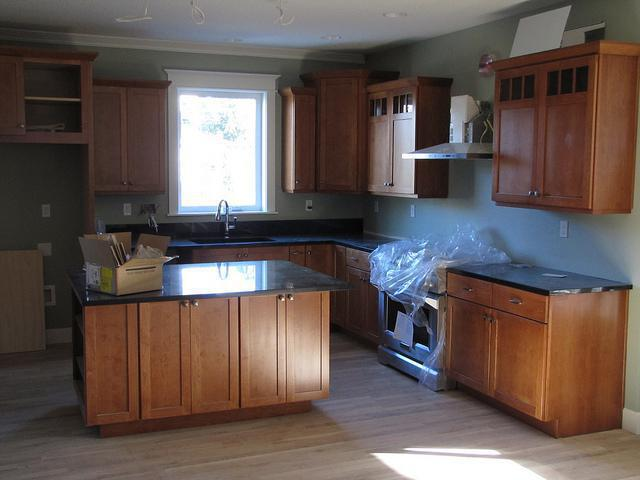Lavaplatos: (181, 196, 280, 247)
